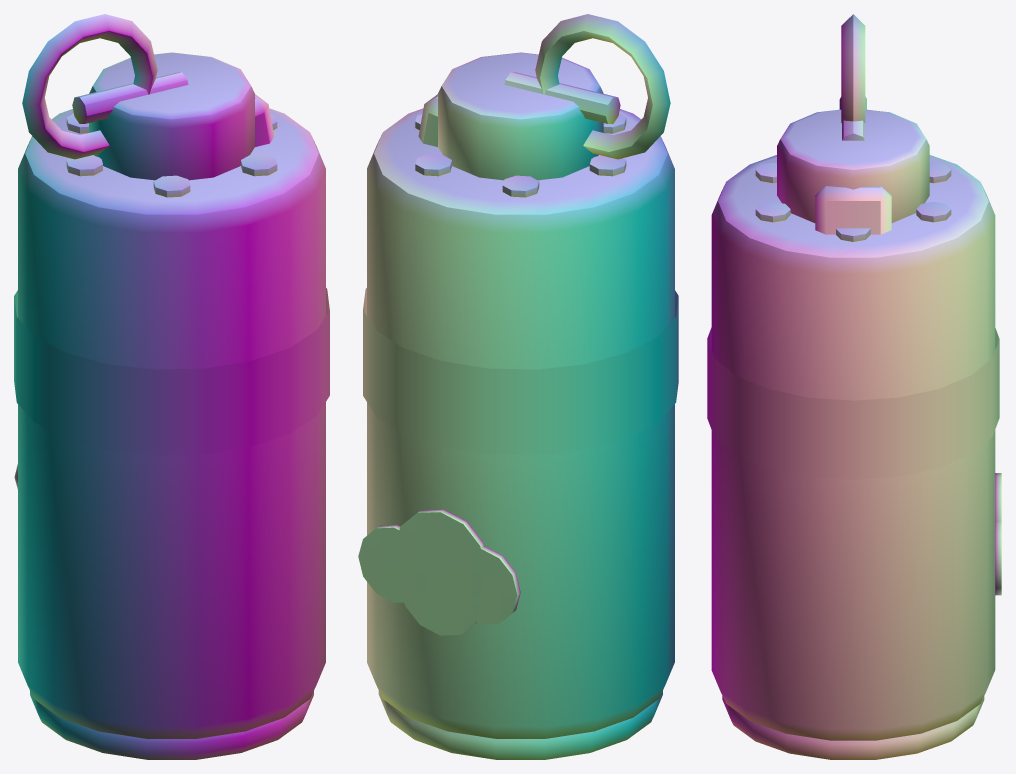
The model's file is gad_smoke.glb.
The picture shows the model from 3 angles, left to right: view 1: azimuth 30°, elevation 25°; view 2: azimuth 150°, elevation 25°; view 3: azimuth 270°, elevation 25°; orthographic projection. The views are drawn at different scales.
Parts seen in each view (by area): view 1: smoke; view 2: smoke; view 3: smoke.
Part boxes in pixels (x1,y1,x2,y2): smoke: (14,14,329,759); smoke: (358,14,678,759); smoke: (707,14,1001,759).
Bounding box in the file's own units: 0.056 × 0.1319 × 0.054.
